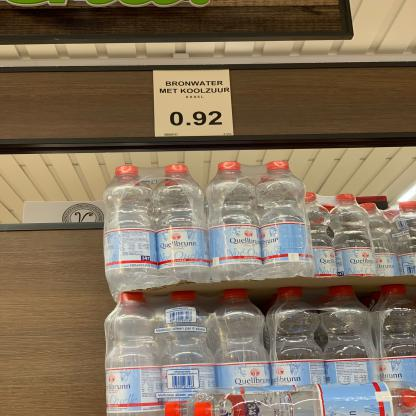prtg: (154, 70, 236, 138)
